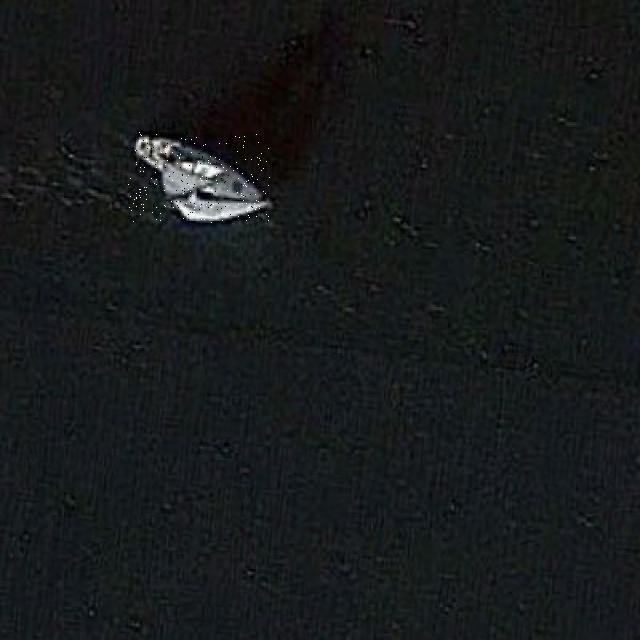boat: (128, 132, 270, 223)
